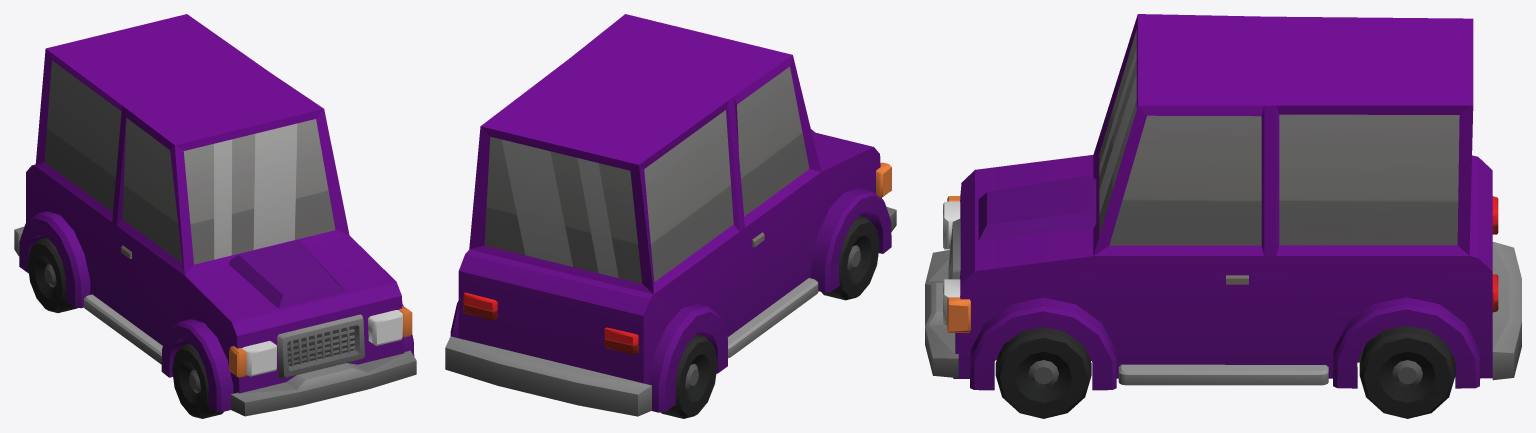
Rendered from Car_5_11.glb.
3 views of the same model, side by side, from view 1: azimuth 30°, elevation 25°; view 2: azimuth 150°, elevation 25°; view 3: azimuth 270°, elevation 25° (orthographic). The views are drawn at different scales.
Visible parts, largest first — view 1: Car_5_11, W_br, W_fr; view 2: Car_5_11, W_br, W_fr; view 3: Car_5_11, W_bl, W_fl.
Boxes of the visible parts, box(x1,y1,x2,y2) form: Car_5_11: box(14, 14, 416, 416); W_br: box(27, 237, 77, 312); W_fr: box(172, 343, 223, 418); Car_5_11: box(445, 14, 896, 416); W_br: box(661, 334, 717, 418); W_fr: box(821, 216, 879, 300); Car_5_11: box(925, 14, 1521, 390); W_bl: box(1359, 325, 1455, 418); W_fl: box(995, 327, 1091, 418).
Size of the model in its own units: 1.13 by 1.3 by 2.33.
6 materials, 6 textured.
